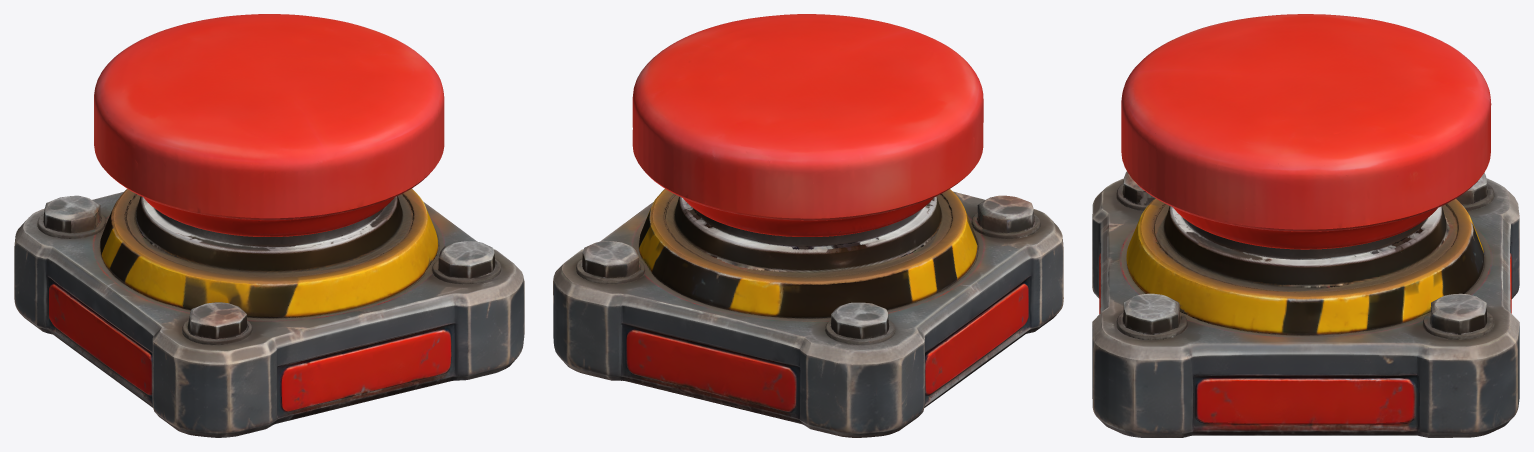
The model's file is base_basic_pbr.glb.
3 renders of one model, left to right at view 1: azimuth 30°, elevation 25°; view 2: azimuth 150°, elevation 25°; view 3: azimuth 270°, elevation 25°, orthographic. The views are drawn at different scales.
Parts seen in each view (by area): view 1: model; view 2: model; view 3: model.
Part boxes in pixels (x1,y1,x2,y2): model: (14,14,524,437); model: (553,14,1063,437); model: (1092,14,1519,437).
Bounding box in the file's own units: 1.9 × 1.35 × 1.91.
Materials: 1 (1 with a texture image).
